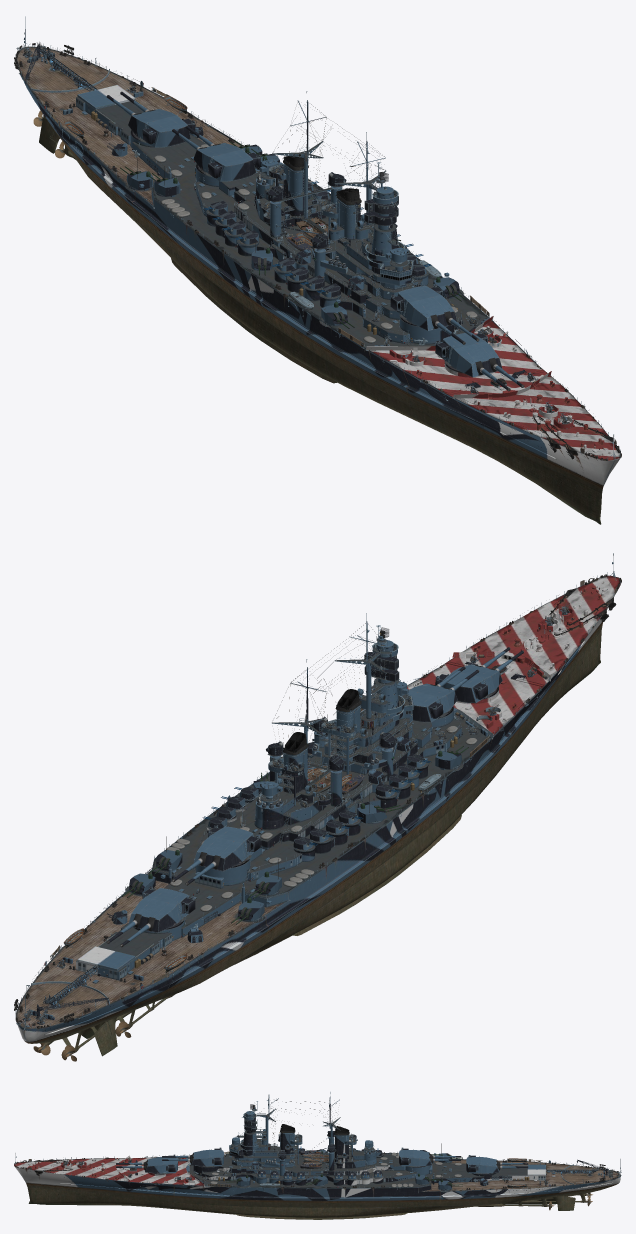
The model's file is RNMorosini-maximum-compressed.glb.
3 renders of one model, top to bottom at view 1: azimuth 30°, elevation 25°; view 2: azimuth 150°, elevation 25°; view 3: azimuth 270°, elevation 25°, orthographic. The views are drawn at different scales.
Visible parts, largest first — view 1: ISB006_Cristoforo_Colombo_1945_midfront_Cristoforo_Colombo_i (×8), ISB006_Cristoforo_Colombo_1945_midfront; view 2: ISB006_Cristoforo_Colombo_1945_midfront_Cristoforo_Colombo_i (×8), ISB006_Cristoforo_Colombo_1945_midfront; view 3: ISB006_Cristoforo_Colombo_1945_midfront_Cristoforo_Colombo_i (×10), ISB006_Cristoforo_Colombo_1945_midfront.
Boxes of the visible parts, x1,y1,x2,y2 form: ISB006_Cristoforo_Colombo_1945_midfront_Cristoforo_Colombo_i (×8): (14, 16, 621, 524); ISB006_Cristoforo_Colombo_1945_midfront: (126, 144, 459, 325); ISB006_Cristoforo_Colombo_1945_midfront_Cristoforo_Colombo_i (×8): (14, 553, 621, 1056); ISB006_Cristoforo_Colombo_1945_midfront: (129, 733, 461, 921); ISB006_Cristoforo_Colombo_1945_midfront_Cristoforo_Colombo_i (×10): (14, 1092, 621, 1219); ISB006_Cristoforo_Colombo_1945_midfront: (236, 1149, 451, 1189).
Bounding box in the file's own units: 0.0273 × 0.0389 × 0.1884.
Materials: 64 (62 with a texture image).
